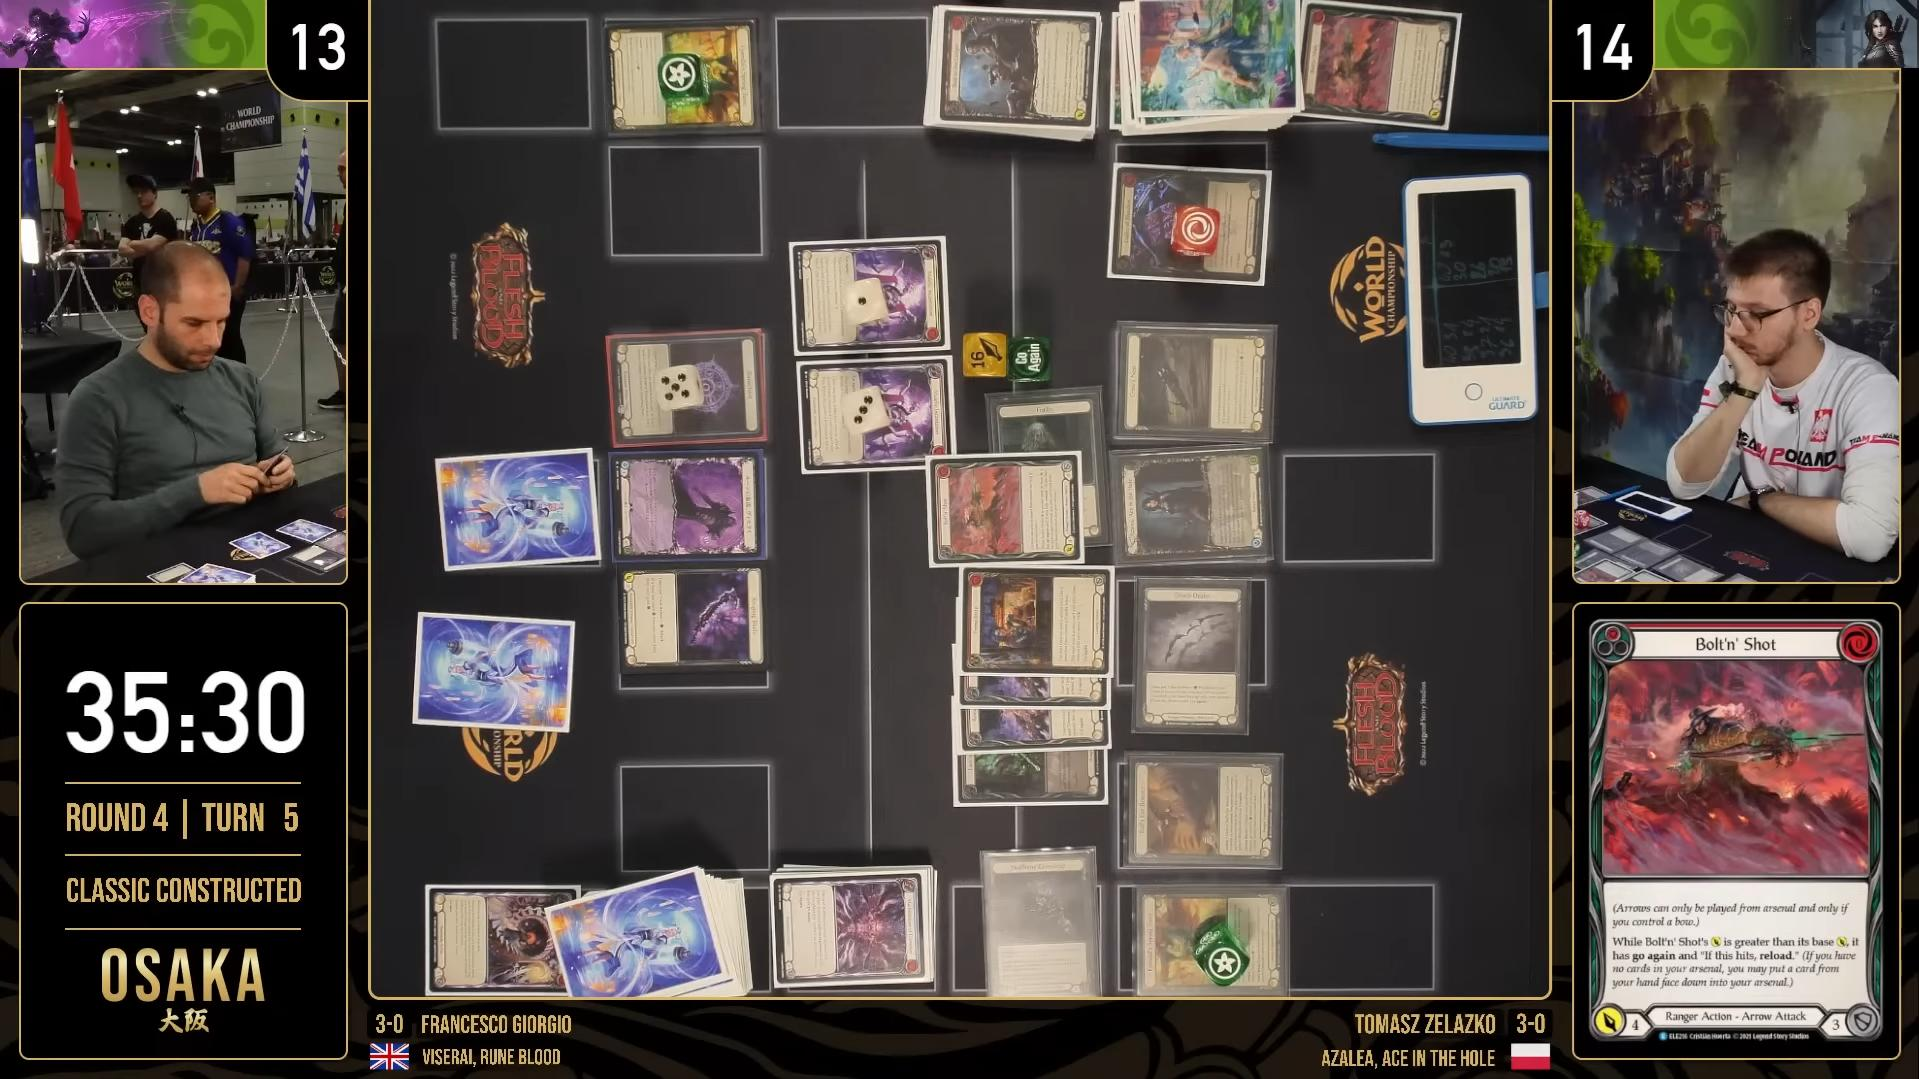Card: (1572, 609, 1910, 1054), (925, 3, 1104, 144), (920, 451, 1089, 572), (768, 866, 927, 991), (1112, 155, 1271, 281), (1303, 0, 1456, 129), (1110, 321, 1271, 443), (981, 383, 1101, 538), (604, 325, 759, 444), (1115, 444, 1271, 561), (1123, 751, 1280, 867), (1130, 584, 1257, 725), (1133, 885, 1292, 996), (789, 236, 941, 350), (977, 846, 1095, 992), (795, 356, 942, 472), (424, 881, 579, 992), (608, 451, 762, 556), (614, 563, 764, 667), (609, 22, 753, 128), (962, 565, 1099, 664), (970, 744, 1106, 806), (961, 702, 1097, 748), (965, 672, 1103, 710)
